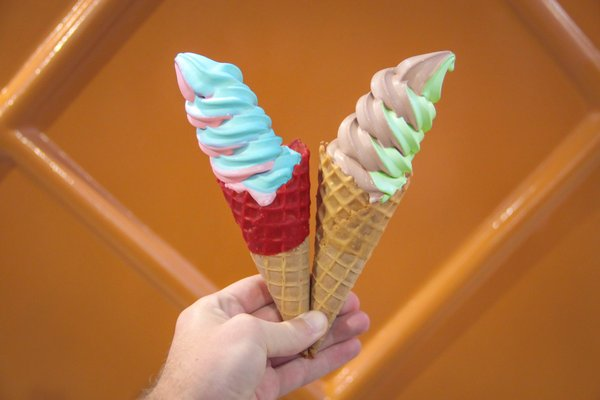pizza: (143, 50, 453, 394)
